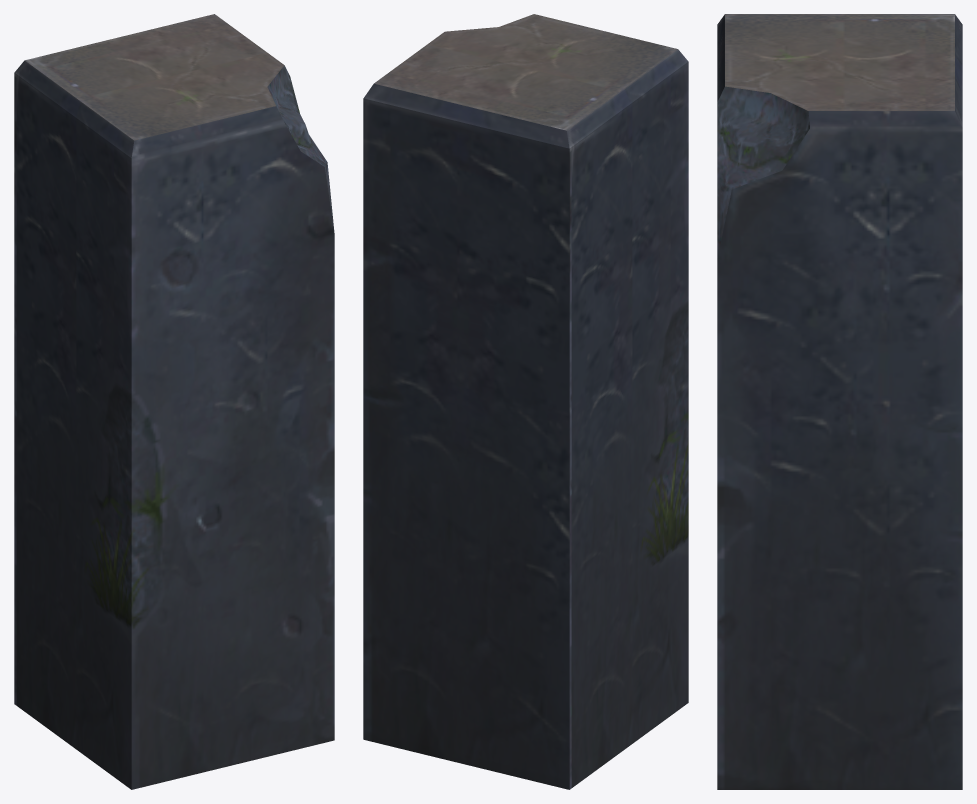
Rendered from HuBian_NightRailing02_FBX.FBX.
The picture shows the model from 3 angles, left to right: view 1: azimuth 30°, elevation 25°; view 2: azimuth 150°, elevation 25°; view 3: azimuth 270°, elevation 25°; orthographic projection. The views are drawn at different scales.
Visible parts, largest first — view 1: HuBian_NightRailing02_FBX; view 2: HuBian_NightRailing02_FBX; view 3: HuBian_NightRailing02_FBX.
Boxes of the visible parts, x1,y1,x2,y2 form: HuBian_NightRailing02_FBX: (14,14,334,789); HuBian_NightRailing02_FBX: (363,14,688,789); HuBian_NightRailing02_FBX: (717,14,962,789).
Bounding box in the file's own units: 0.4064 × 1.23 × 0.4064.
